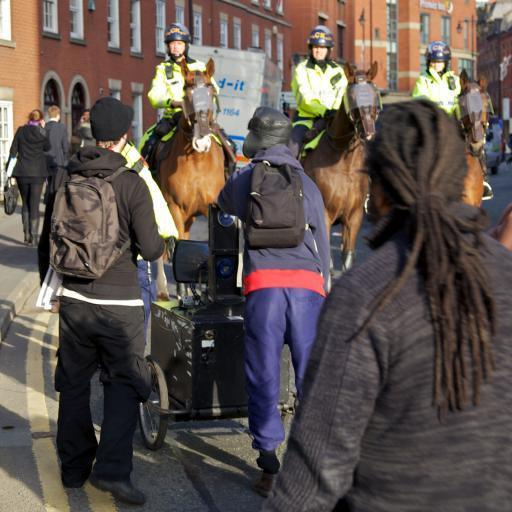horse: (147, 54, 230, 302), (298, 59, 382, 278), (450, 68, 490, 210)
